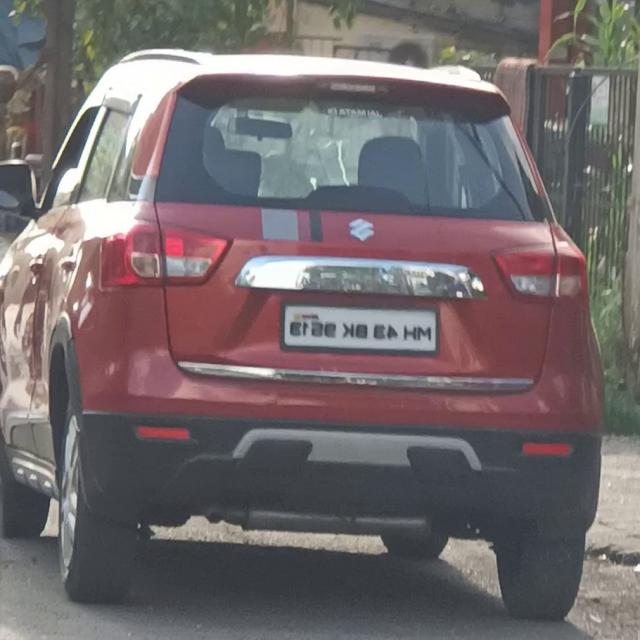license_plate: (276, 300, 444, 365)
